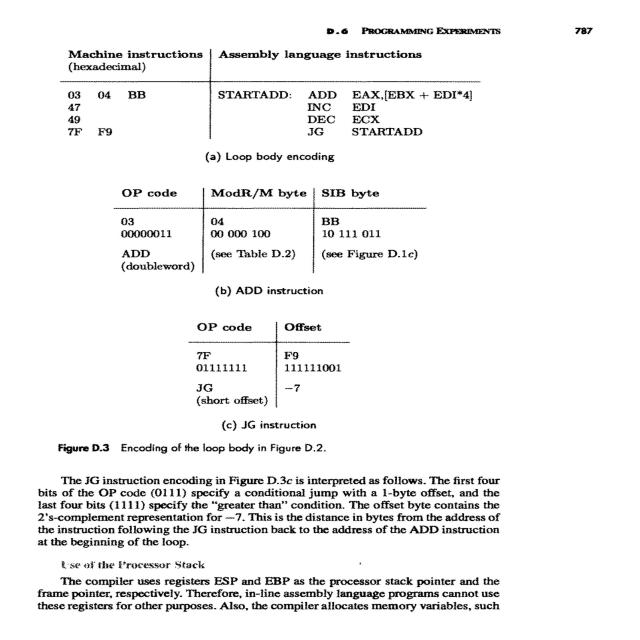diagram: (36, 39, 531, 454)
